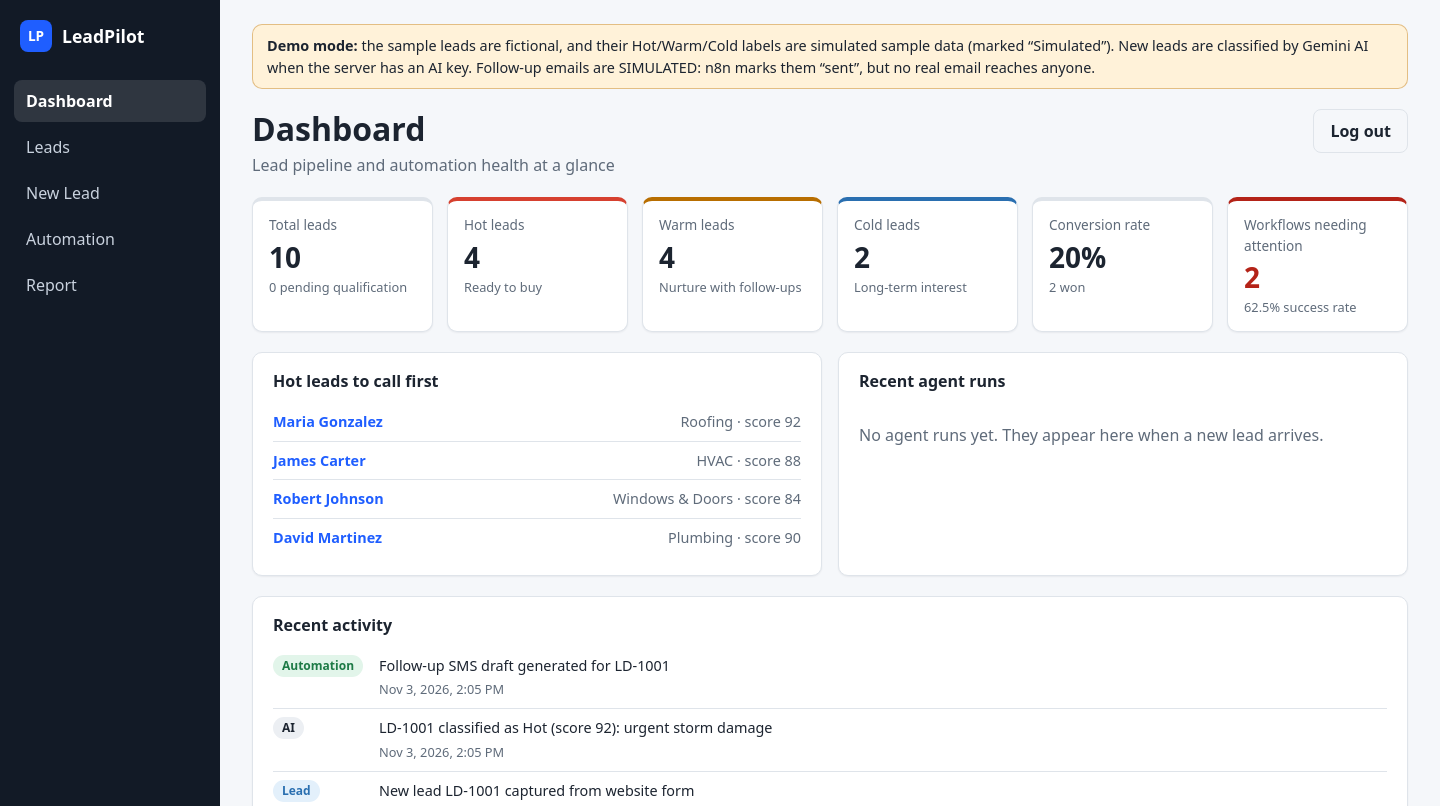
Test: operational report › Refresh loads the report again
Expected: the heading "Hot leads to call first" is shown, [273, 370, 438, 392]
Click the button "Report": (110, 285) [14, 264, 206, 306]
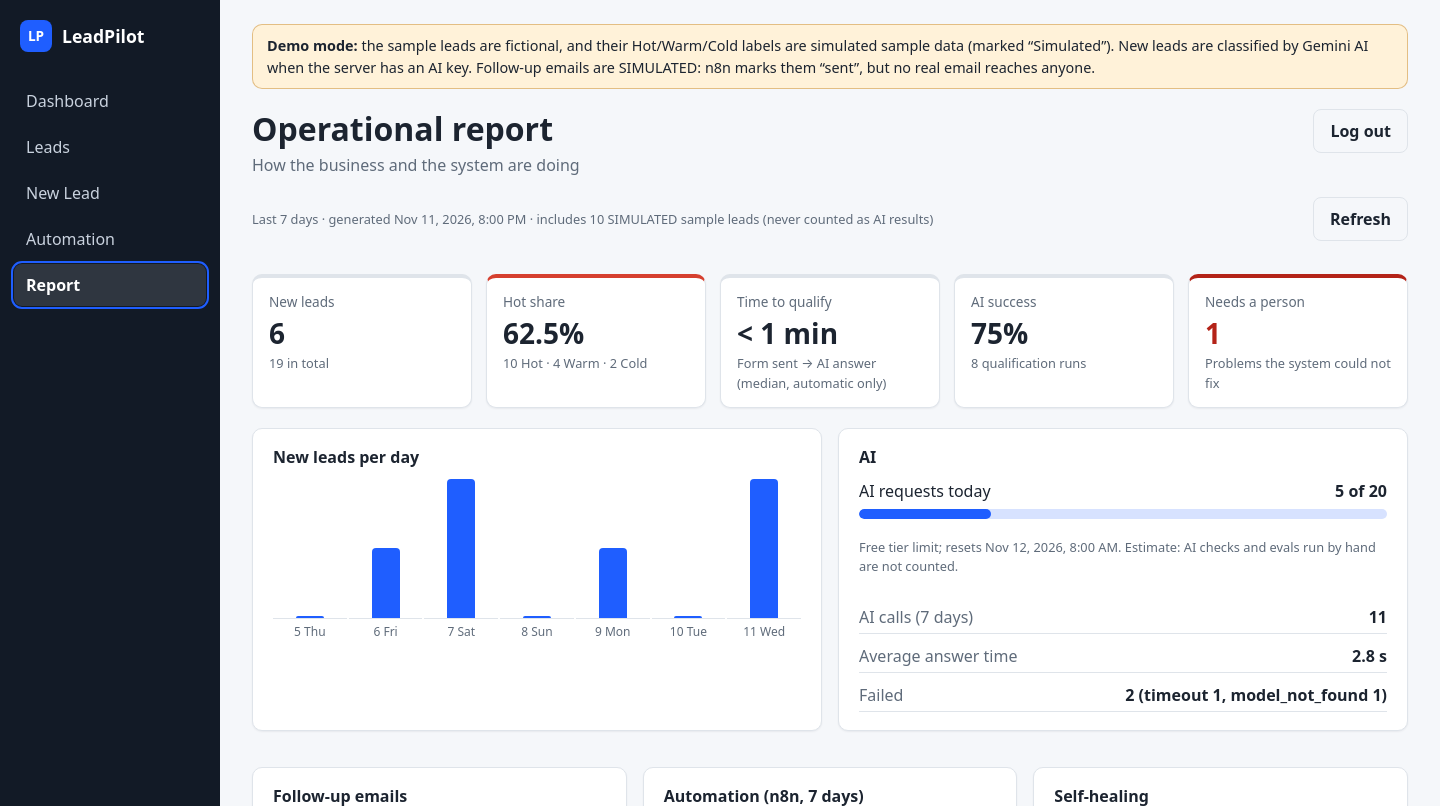
Expected: the element named "Key numbers" is shown, [252, 274, 1408, 408]
Click the button "Refresh": (1360, 219) [1313, 197, 1408, 241]
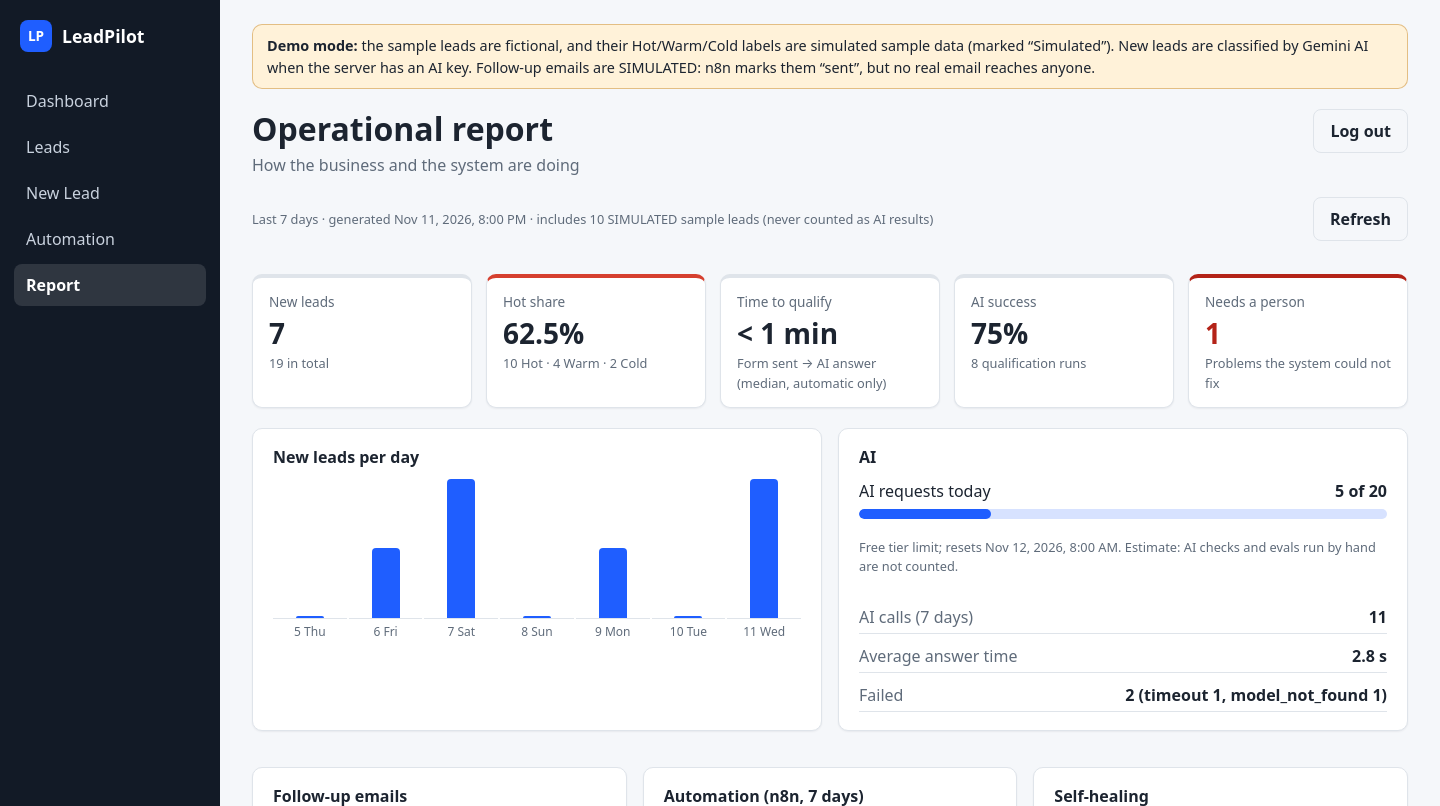
Expected: the text "7" is shown, [269, 314, 285, 352]
